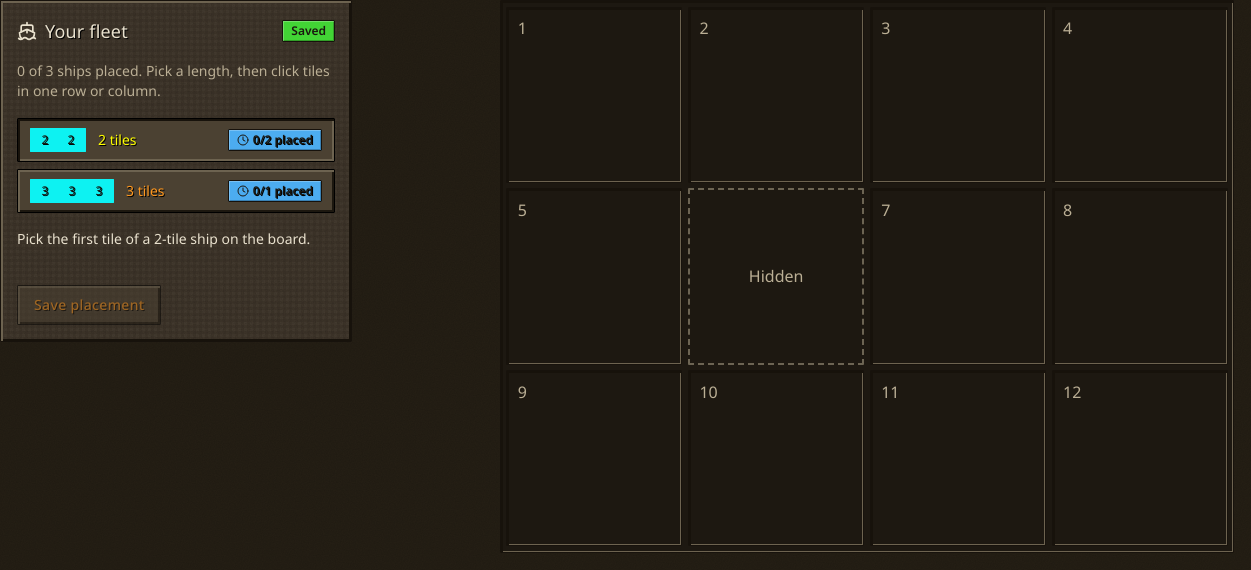
fleet palette › does not allow another length while a ship is being built
Click the cell named "Tile 1," at point(594, 95), box [506, 7, 682, 183]
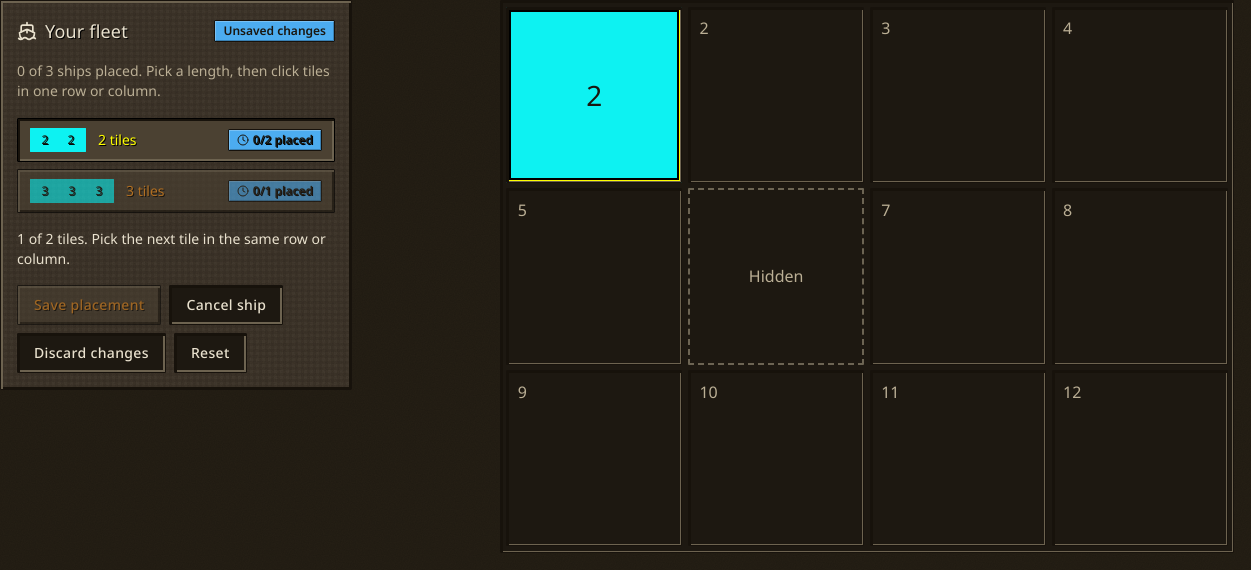
Now the radio button labelled "3 3 3 3 tiles 0/1 placed" is disabled, box [17, 169, 335, 213]
